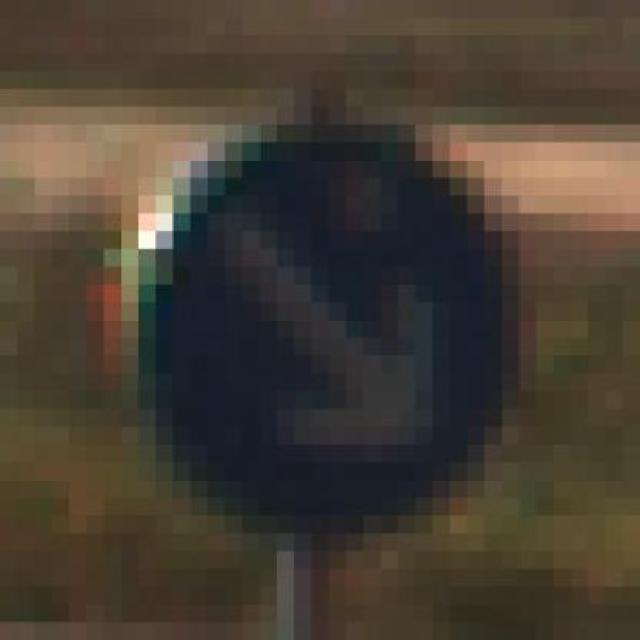Keep-Right: (121, 71, 536, 569)
